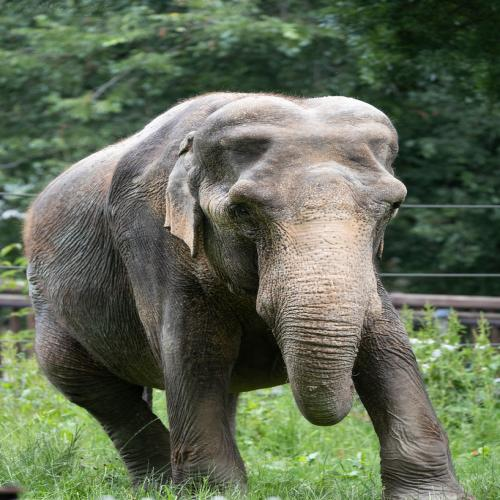asian_elephant-endangered: (23, 89, 470, 500)
